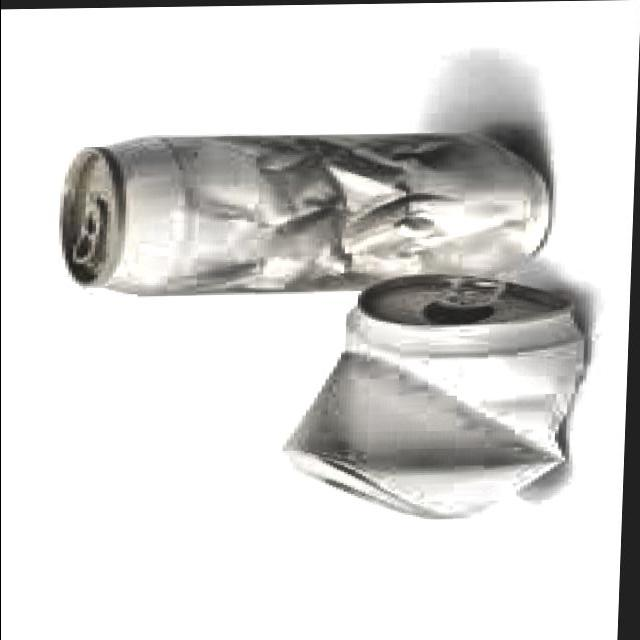Aluminum Can: (40, 122, 575, 298), (258, 269, 600, 532)
